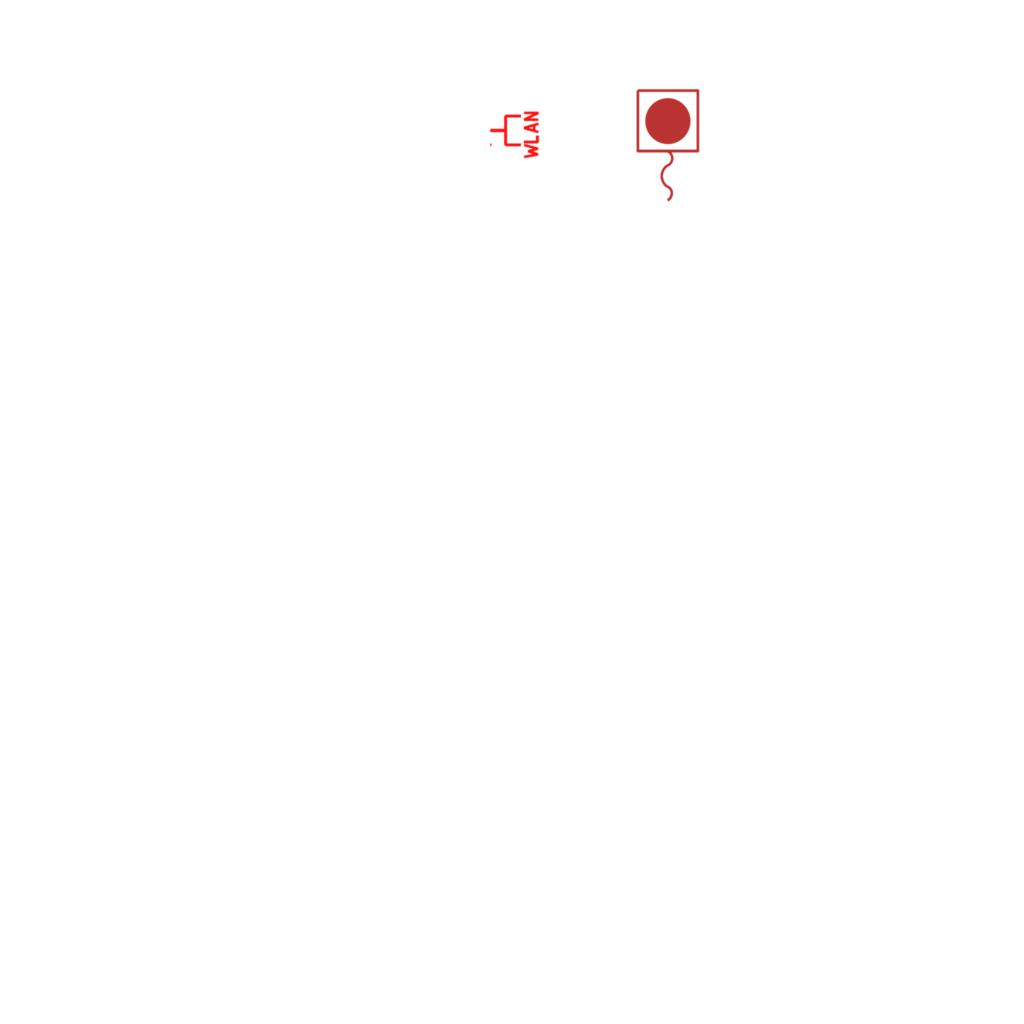WLAN: (488, 109, 540, 161)
Zugtaster: (631, 85, 703, 207)
